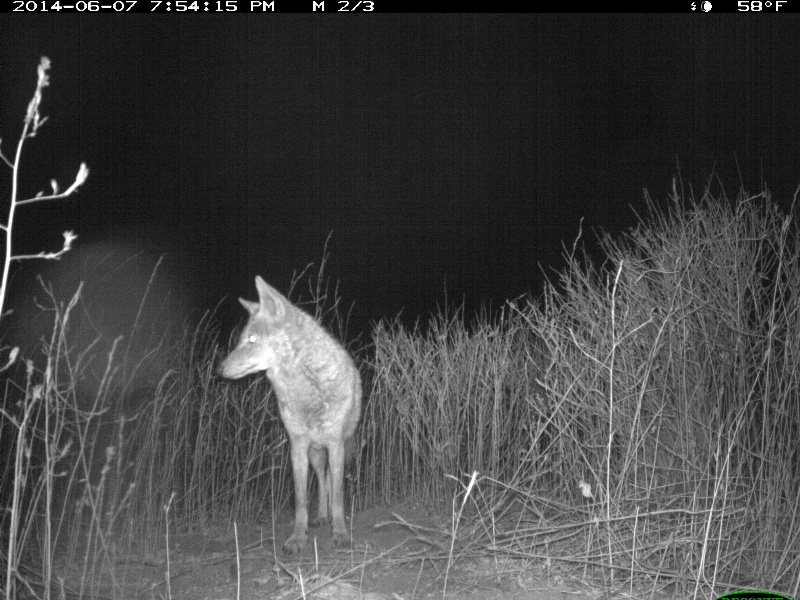coyote: (214, 273, 365, 561)
